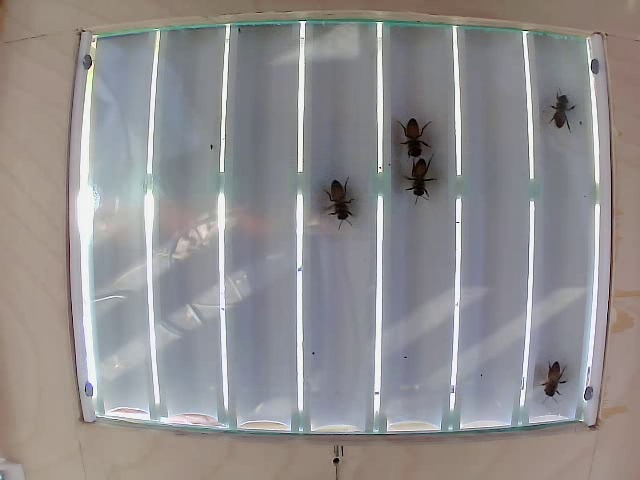bee: (324, 173, 362, 238), (386, 107, 427, 161), (538, 349, 574, 393), (403, 160, 436, 204), (550, 92, 574, 141)
